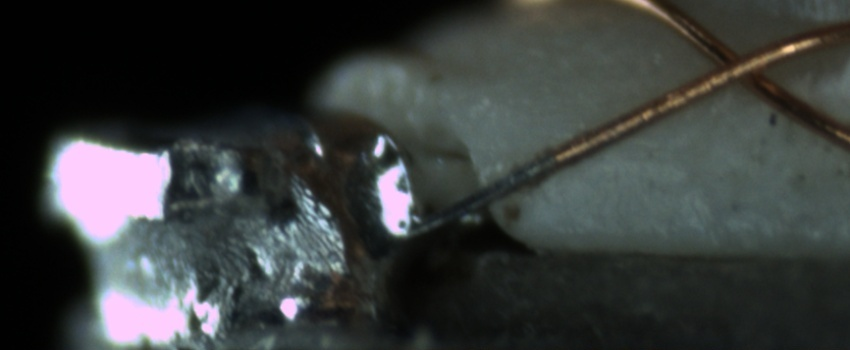CL: (690, 35, 791, 101)
DL: (559, 135, 688, 183)
TS: (404, 149, 558, 244)
